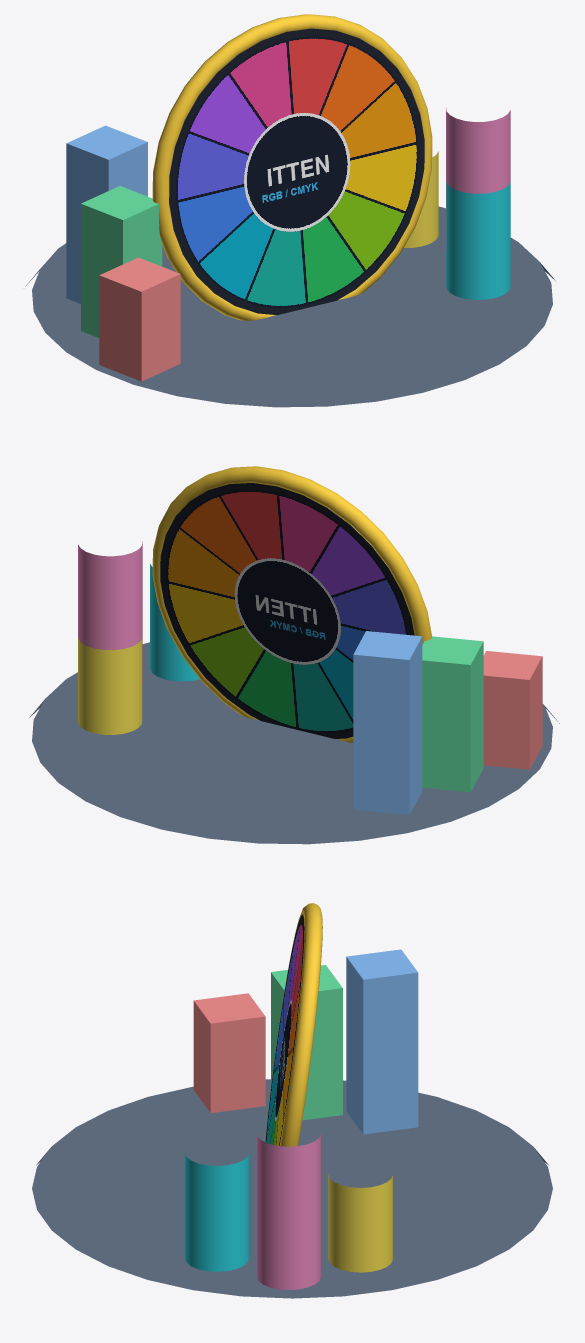
Rendered from design-color.glb.
3 renders of one model, top to bottom at view 1: azimuth 30°, elevation 25°; view 2: azimuth 150°, elevation 25°; view 3: azimuth 270°, elevation 25°, orthographic.
Visible parts, largest first — view 1: Itten_Wheel_Disc, Studio_Pedestal, Itten_Rim, RGB_R, RGB_G, CMYK_C, RGB_B, CMYK_M, CMYK_Y; view 2: Itten_Wheel_Disc, Studio_Pedestal, RGB_B, RGB_G, Itten_Rim, RGB_R, CMYK_M, CMYK_Y, CMYK_C; view 3: Studio_Pedestal, RGB_B, CMYK_M, RGB_R, CMYK_C, CMYK_Y, RGB_G, Itten_Rim, Itten_Wheel_Disc.
Boxes of the visible parts, <box> form: Itten_Wheel_Disc: <box>169,28,424,315</box>; Studio_Pedestal: <box>25,206,555,407</box>; Itten_Rim: <box>152,14,432,320</box>; RGB_R: <box>99,257,180,381</box>; RGB_G: <box>81,186,162,337</box>; CMYK_C: <box>446,181,510,299</box>; RGB_B: <box>66,125,147,303</box>; CMYK_M: <box>446,108,510,250</box>; CMYK_Y: <box>404,151,438,247</box>; Itten_Wheel_Disc: <box>160,483,414,738</box>; Studio_Pedestal: <box>29,642,559,844</box>; RGB_B: <box>353,631,422,814</box>; RGB_G: <box>422,636,483,792</box>; Itten_Rim: <box>152,466,431,742</box>; RGB_R: <box>483,651,542,769</box>; CMYK_M: <box>78,541,142,684</box>; CMYK_Y: <box>78,637,142,734</box>; CMYK_C: <box>150,564,199,681</box>; Studio_Pedestal: <box>32,1079,552,1298</box>; RGB_B: <box>346,949,418,1134</box>; CMYK_M: <box>256,1133,321,1289</box>; RGB_R: <box>193,993,265,1112</box>; CMYK_C: <box>184,1153,249,1271</box>; CMYK_Y: <box>328,1174,392,1272</box>; RGB_G: <box>271,965,342,1120</box>; Itten_Rim: <box>265,903,322,1146</box>; Itten_Wheel_Disc: <box>265,914,304,1145</box>.
Bounding box in the file's own units: 3.1 × 1.8 × 3.1.
Materials: 9 (1 with a texture image).
